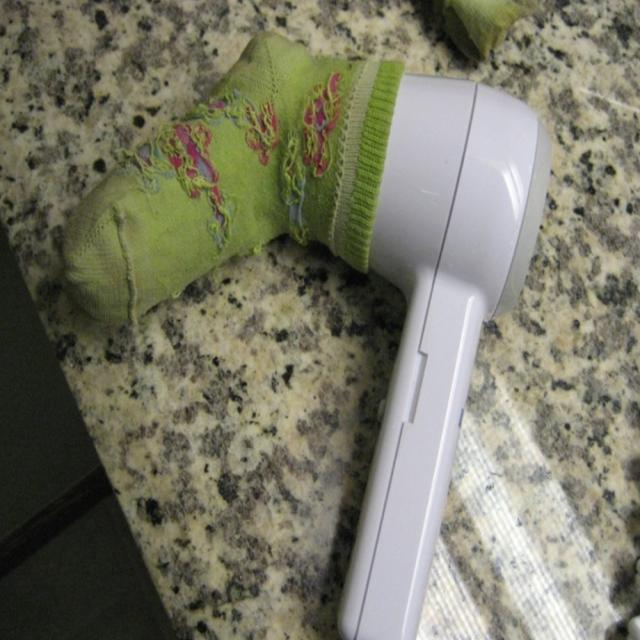dryer: (206, 0, 562, 640)
